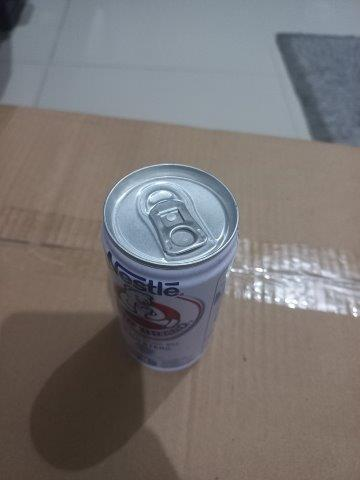kaleng: (102, 163, 240, 372)
kardus: (1, 102, 360, 480)
